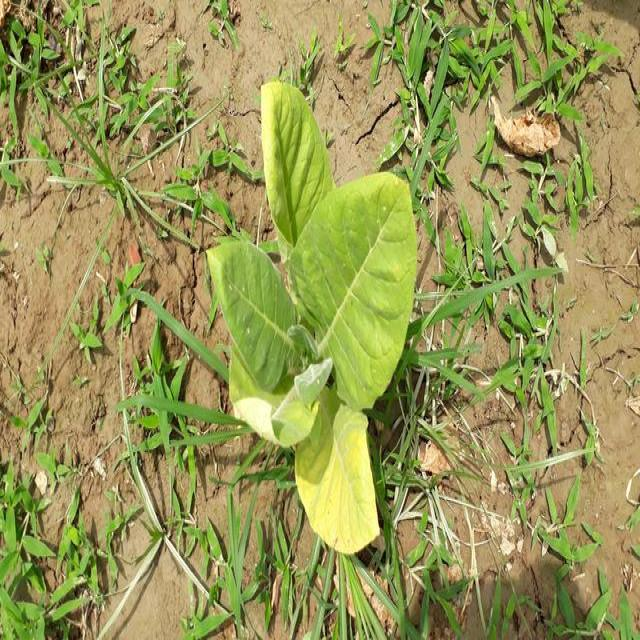crop: (218, 75, 416, 559)
